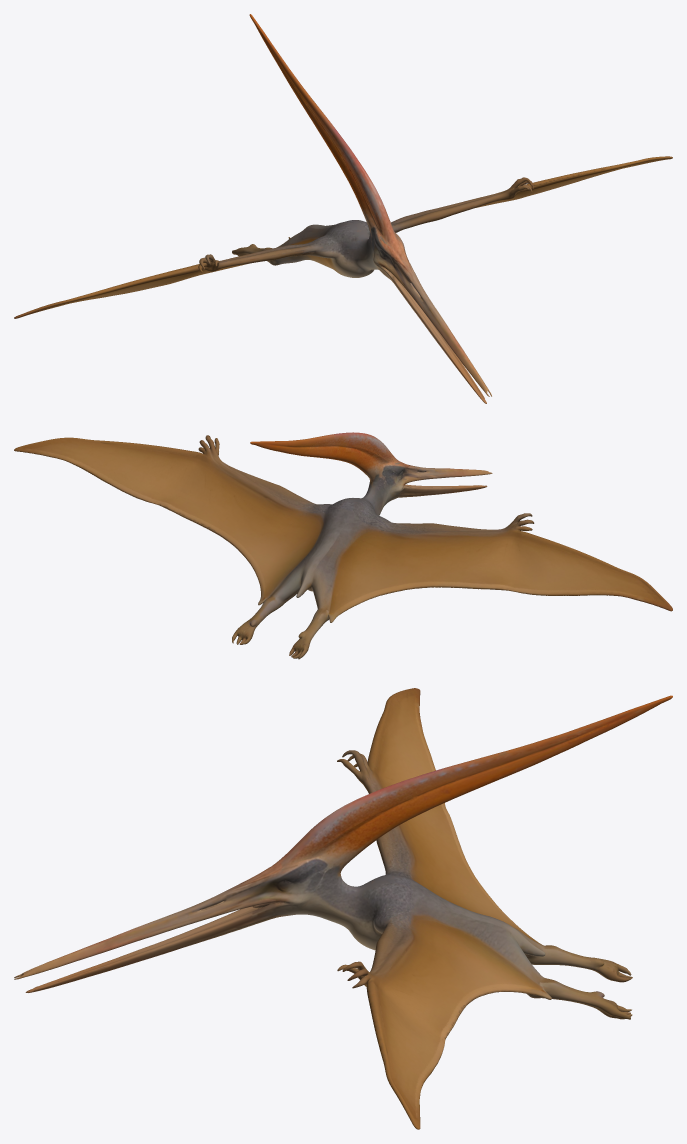
File: pteranodon.glb
The picture shows the model from 3 angles, top to bottom: view 1: azimuth 30°, elevation 25°; view 2: azimuth 150°, elevation 25°; view 3: azimuth 270°, elevation 25°; orthographic projection. The views are drawn at different scales.
Visible parts, largest first — view 1: material; view 2: material; view 3: material.
Part boxes in pixels (box(x1,y1,x2,y2)): material: box(14, 14, 672, 403); material: box(14, 432, 672, 659); material: box(14, 688, 672, 1129).
Size of the model in its own units: 6 by 1.93 by 3.8.
1 material, 1 textured.
